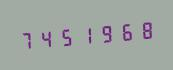eight: (137, 15, 156, 43)
five: (57, 22, 76, 50)
four: (37, 24, 56, 52)
nine: (97, 19, 116, 47)
one: (77, 20, 96, 49)
seven: (17, 26, 36, 54)
six: (117, 17, 136, 45)
